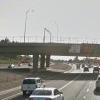Bridge: (4, 31, 94, 70)
